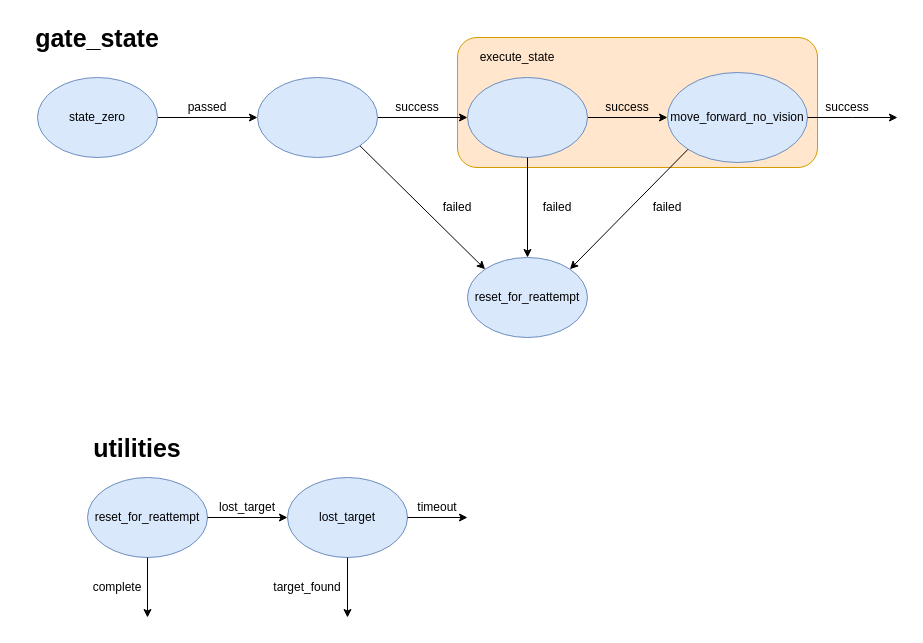
The diagram is 923 pixels wide and 643 high, and some of its shapes have lost their labels. Here are the shapes that lost their labels. From the top down, the box of each, then its label:
(256, 76, 378, 158): position_sub
(466, 76, 588, 158): move_forward_vision
